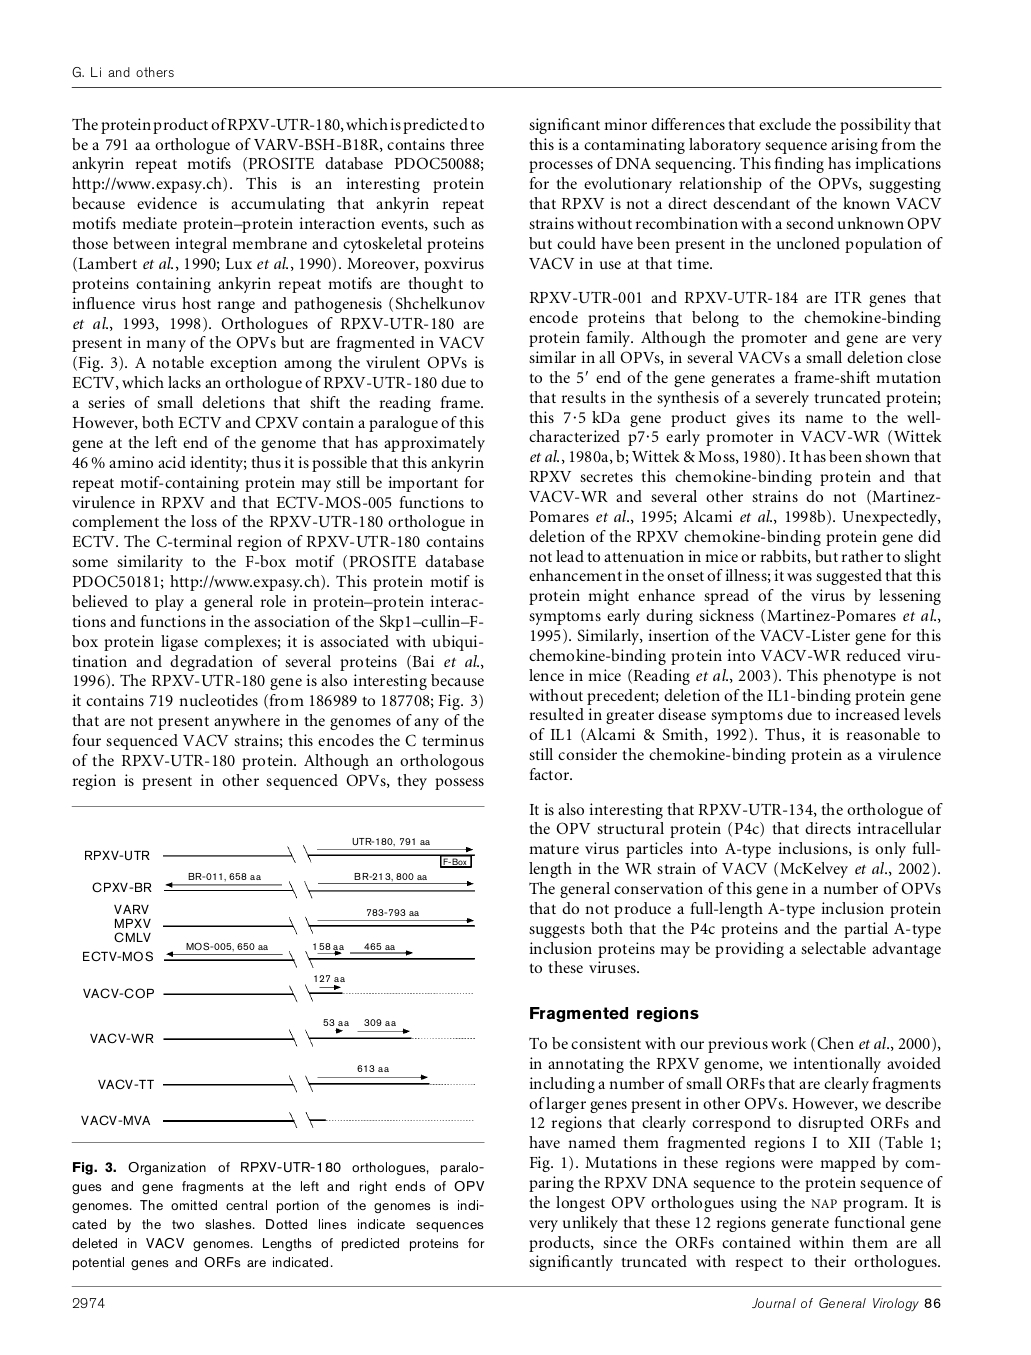figure: (81, 837, 474, 1126)
